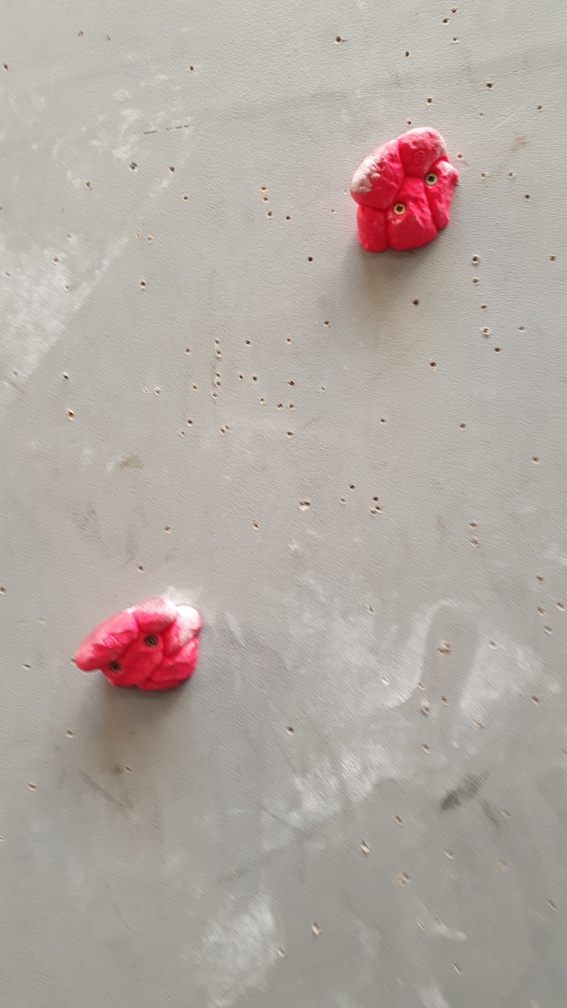Jug: (345, 127, 462, 253), (71, 591, 206, 695)
